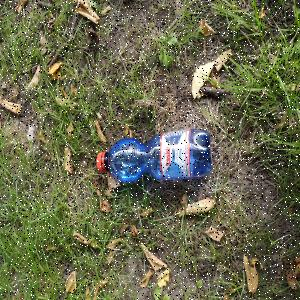Plastic-bottle: (97, 129, 215, 185)
